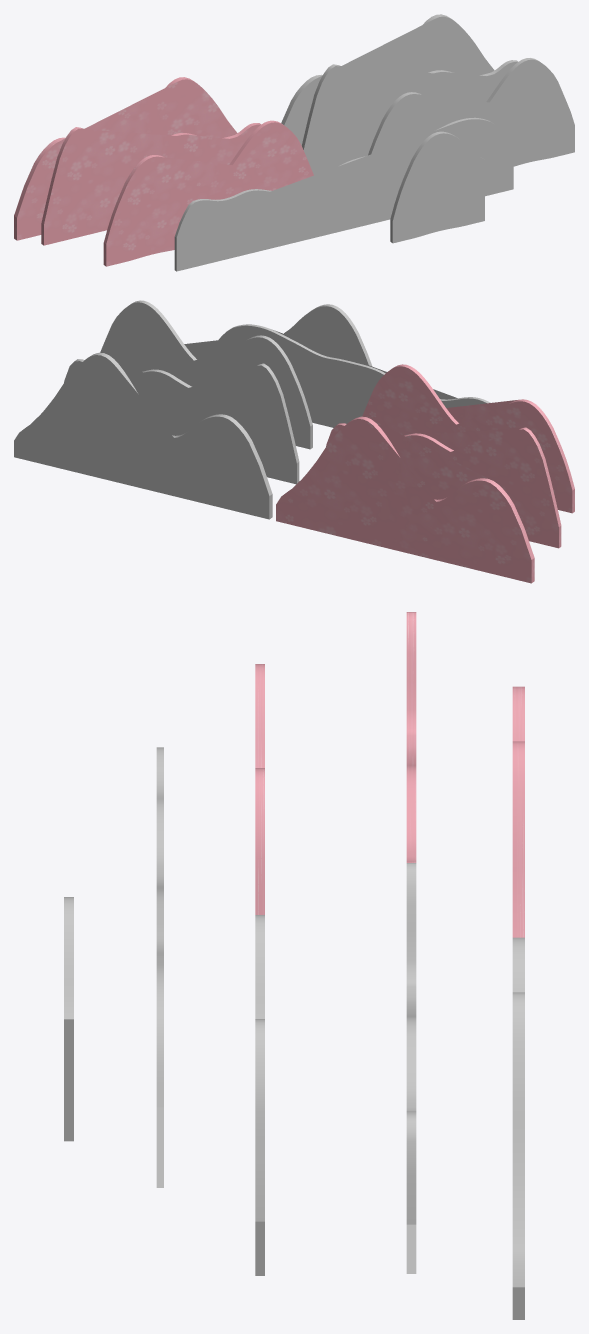
Rendered from beiban-xiu.fbx.
3 renders of one model, top to bottom at view 1: azimuth 30°, elevation 25°; view 2: azimuth 150°, elevation 25°; view 3: azimuth 270°, elevation 25°, orthographic. The views are drawn at different scales.
Parts seen in each view (by area): view 1: pCube8, pCube4, pCube3, pCube7, pCube6, polySurface1, pCube2, pCube5; view 2: pCube5, pCube2, pCube4, pCube7, pCube6, pCube3, pCube8, polySurface1; view 3: pCube5, pCube6, pCube7, pCube8, pCube2, pCube3, pCube4, polySurface1.
Part boxes in pixels (left/top/right/bottom): pCube8: left=174, top=117, right=513, bottom=271; pCube4: left=103, top=120, right=313, bottom=266; pCube3: left=41, top=123, right=260, bottom=245; pCube7: left=368, top=58, right=574, bottom=166; pCube6: left=302, top=60, right=517, bottom=175; polySurface1: left=390, top=131, right=484, bottom=243; pCube2: left=14, top=77, right=237, bottom=240; pCube5: left=281, top=14, right=494, bottom=145; pCube5: left=14, top=352, right=272, bottom=519; pCube2: left=276, top=416, right=534, bottom=583; pCube4: left=362, top=364, right=574, bottom=513; pCube7: left=100, top=300, right=312, bottom=449; pCube6: left=64, top=359, right=299, bottom=484; pCube3: left=326, top=423, right=561, bottom=548; pCube8: left=218, top=324, right=490, bottom=427; polySurface1: left=284, top=304, right=372, bottom=366; pCube5: left=512, top=937, right=524, bottom=1319; pCube6: left=406, top=863, right=416, bottom=1273; pCube7: left=255, top=915, right=264, bottom=1275; pCube8: left=156, top=747, right=163, bottom=1187; pCube2: left=512, top=686, right=524, bottom=937; pCube3: left=406, top=612, right=416, bottom=862; pCube4: left=255, top=664, right=264, bottom=914; polySurface1: left=64, top=897, right=73, bottom=1141.
Size of the model in its own units: 49.87 by 11.54 by 19.61.
